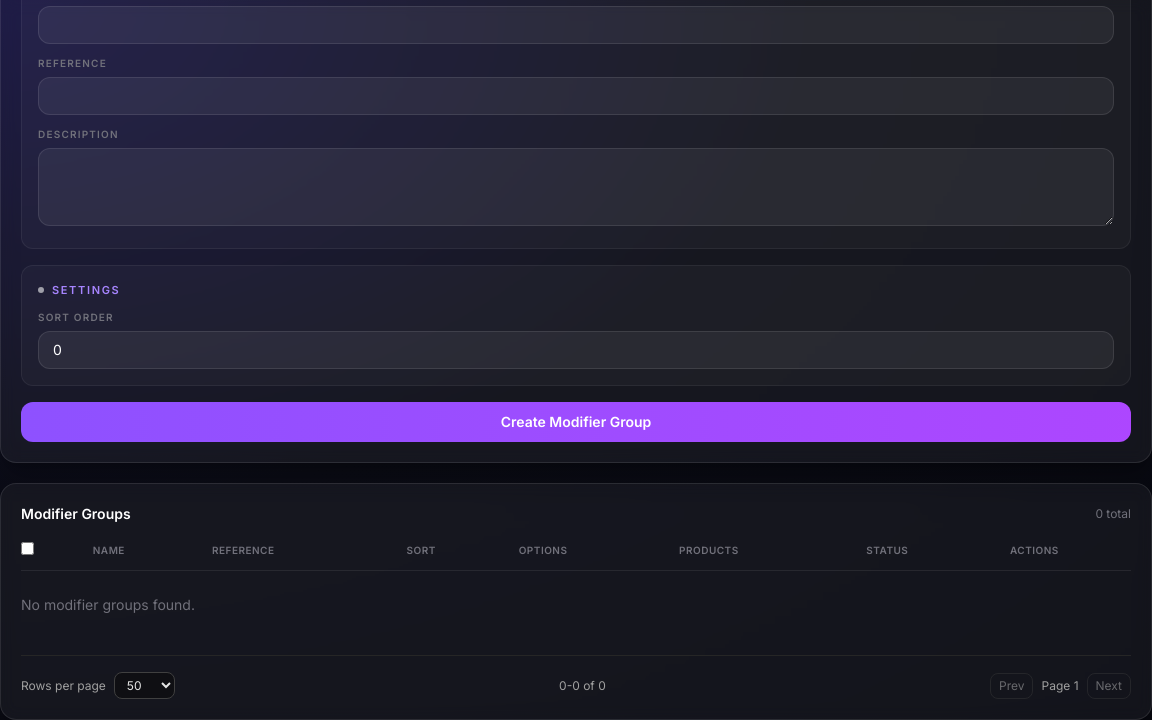
Test: MenuModifierGroupsPage — form › shows name required error on empty create
The width and height of the screenshot is (1152, 720).
(page scrolled)
Click the button "Create Modifier Group": [576, 422] box [21, 402, 1131, 442]
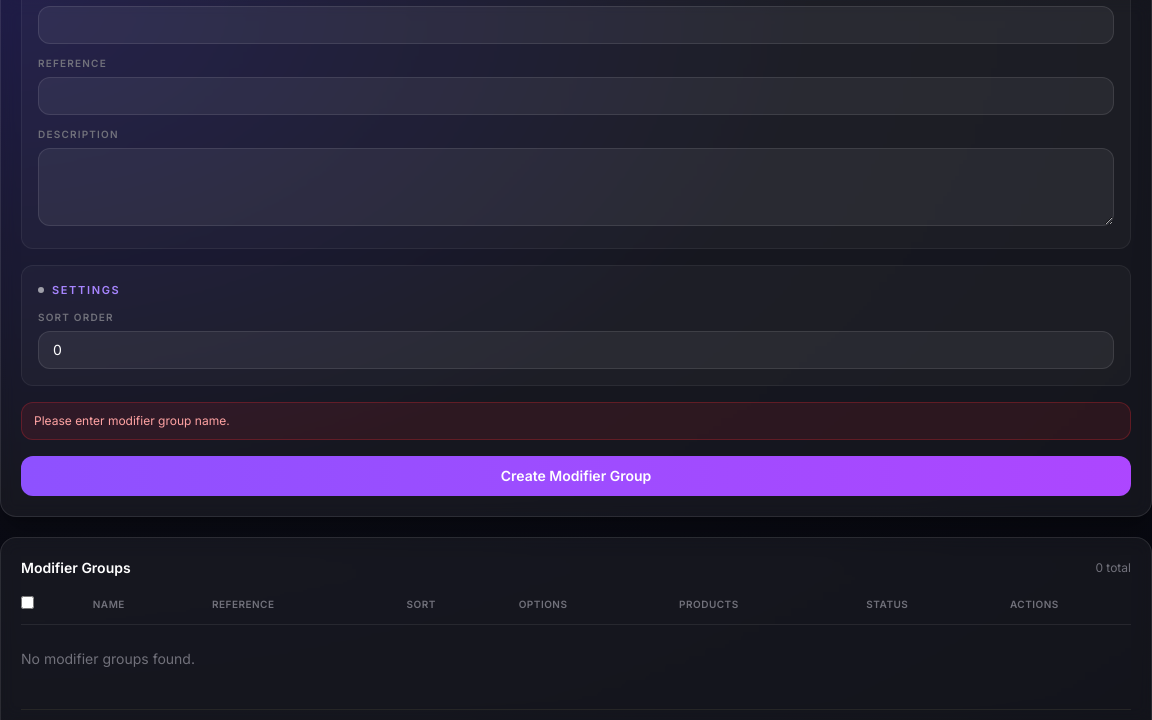
Expected: the text "Please enter modifier group name." is shown, [21, 402, 1131, 440]
